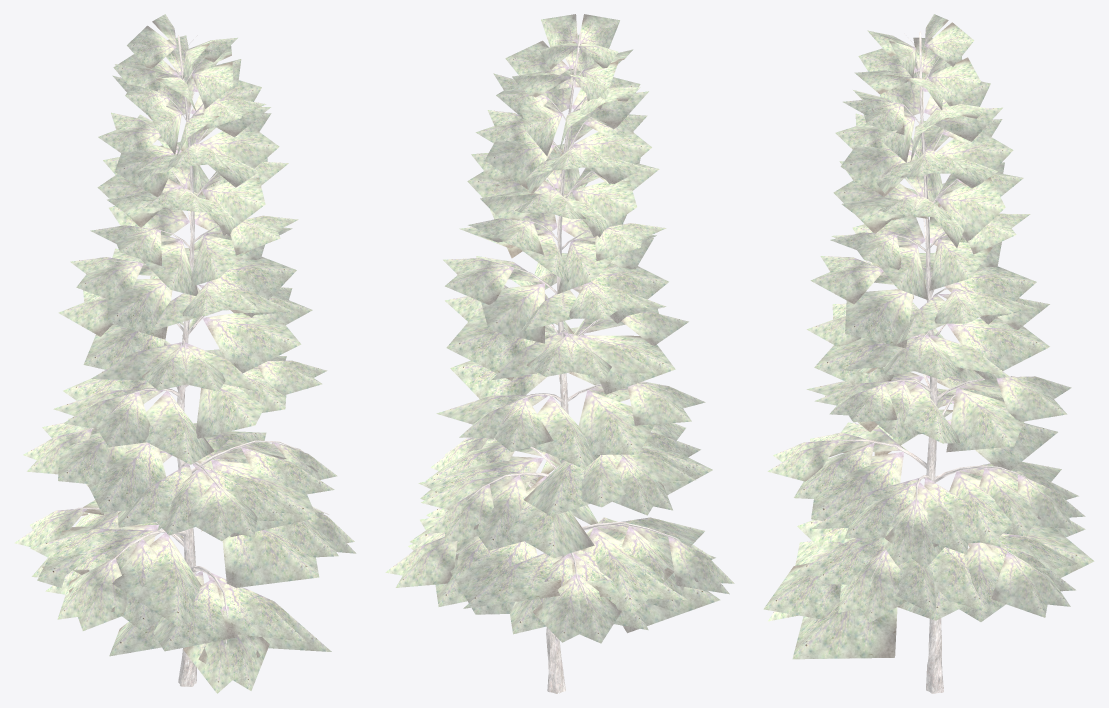
The model's file is SM_fir.fbx.
3 views of the same model, side by side, from view 1: azimuth 30°, elevation 25°; view 2: azimuth 150°, elevation 25°; view 3: azimuth 270°, elevation 25° (orthographic).
Parts seen in each view (by area): view 1: SM_fir_LOD0; view 2: SM_fir_LOD0; view 3: SM_fir_LOD0.
Part boxes in pixels (x1=…): SM_fir_LOD0: x1=14, y1=14, x2=356, y2=693; SM_fir_LOD0: x1=385, y1=14, x2=734, y2=693; SM_fir_LOD0: x1=763, y1=14, x2=1094, y2=693.
Size of the model in its own units: 184 by 185 by 405.
Materials: 2 (2 with a texture image).
